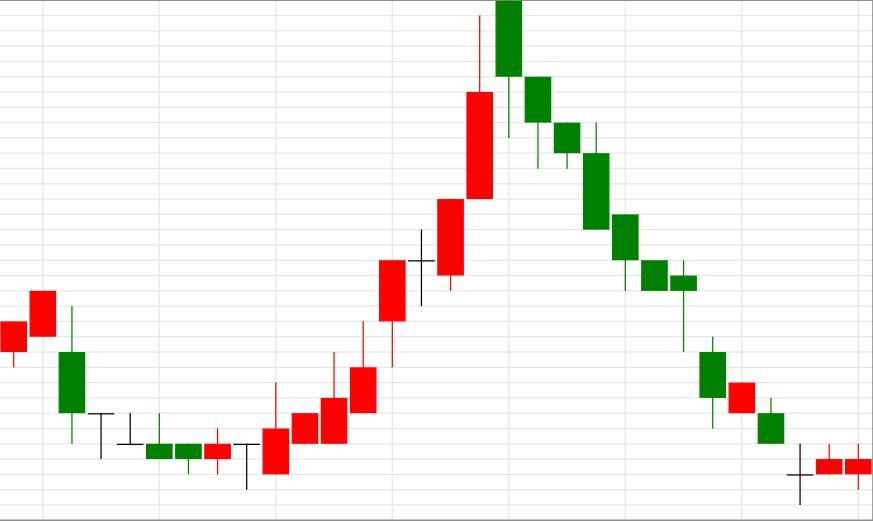three_black_crows_fall: (232, 0, 581, 490)
